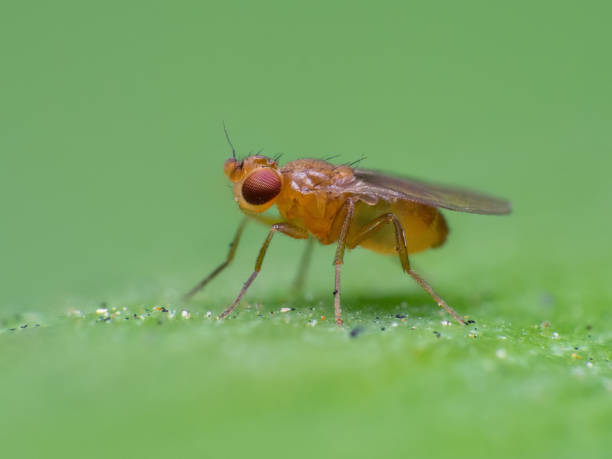Fruit fly: (198, 135, 492, 318)
